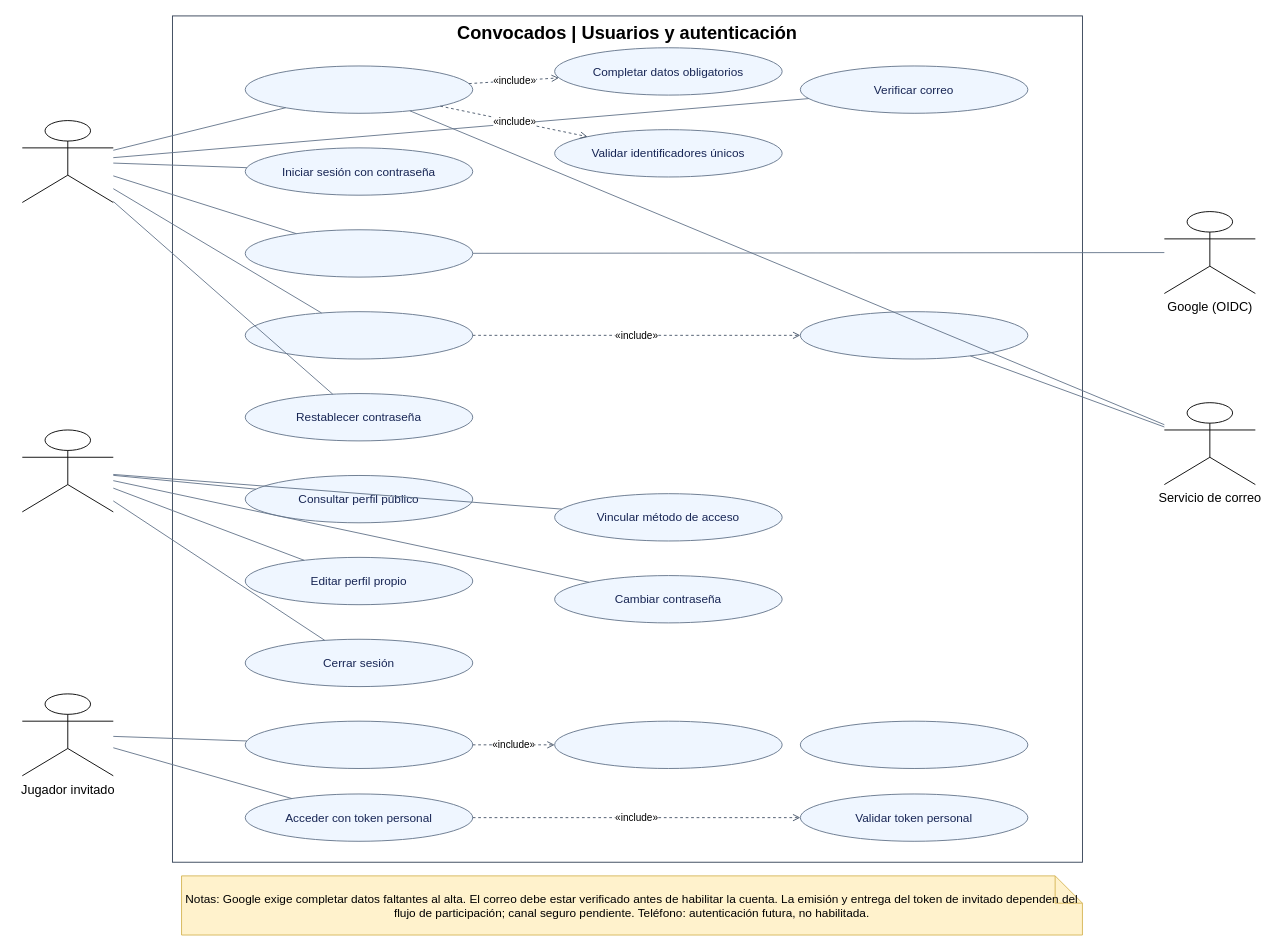
The diagram is 1277 pixels wide and 951 high, and some of its shapes have lost their labels. Here are the shapes that lost their labels. From the top down, the centre of each, then its label:
(x=358, y=89): Registrarse con correo
(x=67, y=161): Visitante
(x=358, y=253): Acceder mediante Google
(x=358, y=335): Solicitar recuperación
(x=913, y=335): Enviar enlace de recuperación
(x=67, y=470): Usuario registrado
(x=358, y=744): Identificarse como invitado
(x=668, y=744): Declarar mayoría de edad
(x=913, y=744): Emitir token privado
